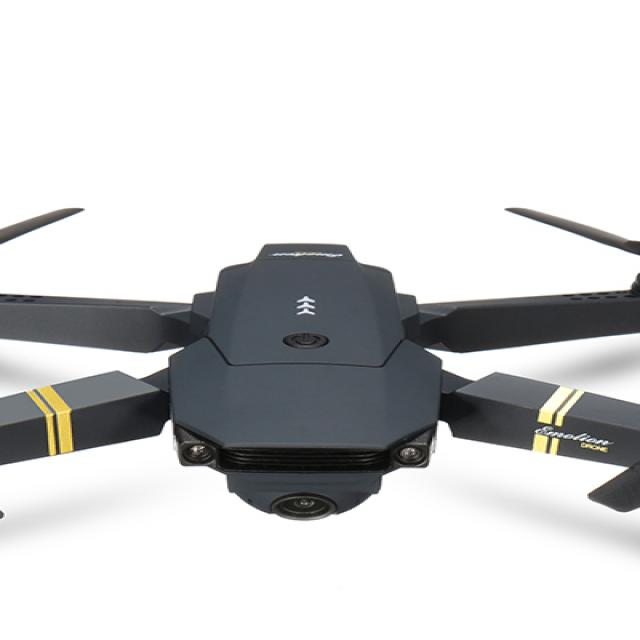drone: (0, 192, 640, 601)
